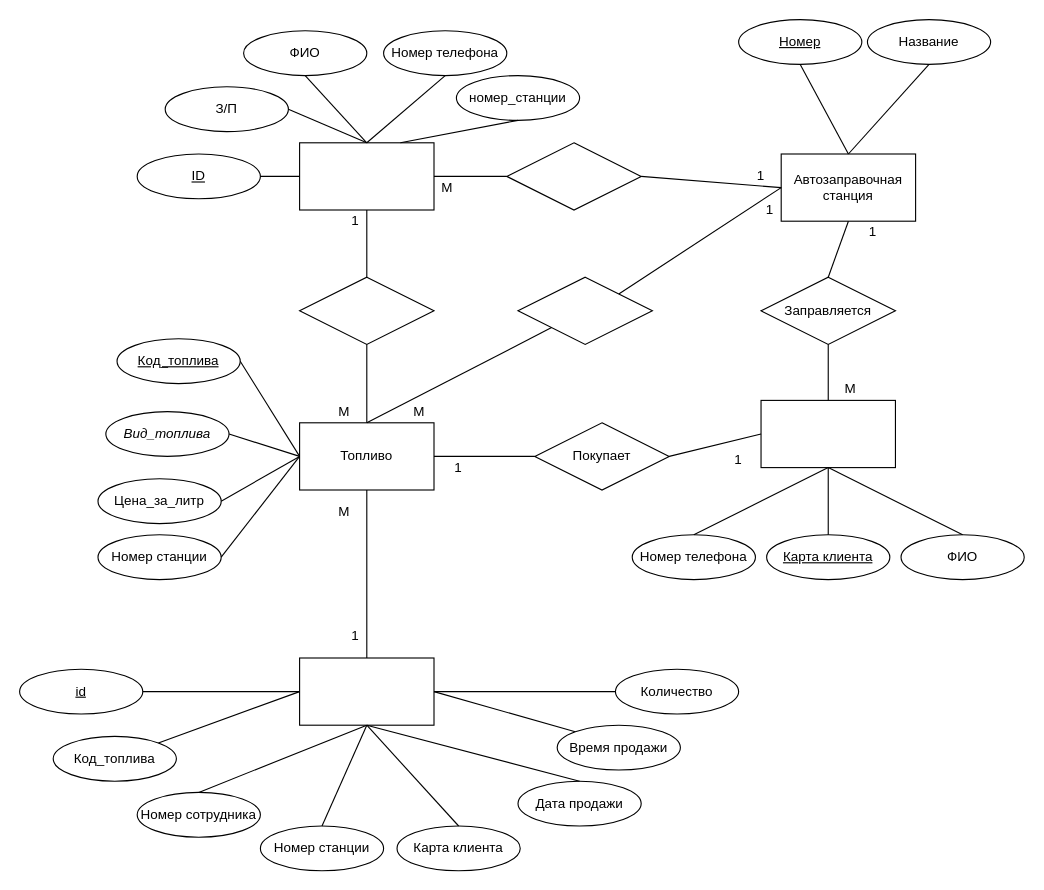
Some shapes in this 1044 by 890 pixel diagram are drawn without their labels. The centre of each missing label's shape, as x and y in pixels:
"Клиент" belongs at [827,433].
"Продажи топлива" belongs at [366,691].
"Продаёт" belongs at [366,310].
"Работает" belongs at [573,176].
"Сотрудник" belongs at [366,176].
"Хранится" belongs at [584,310].
